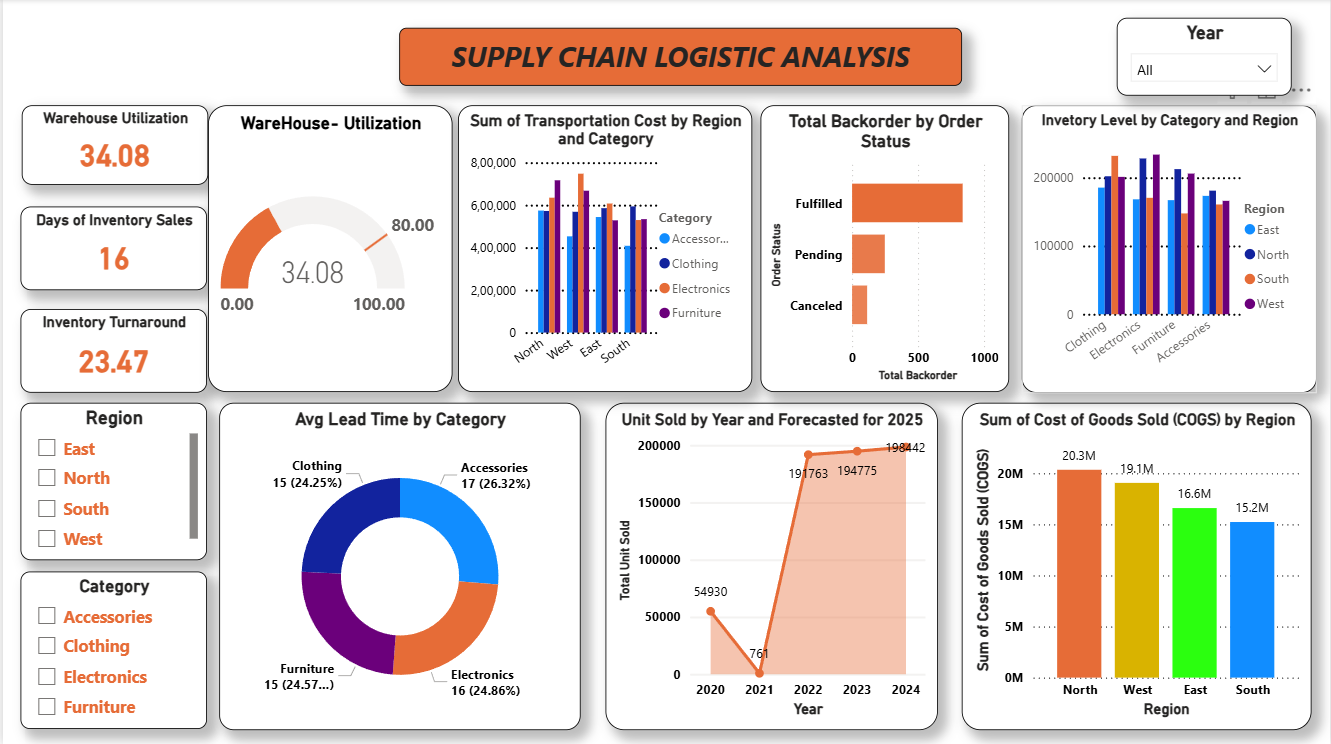

Layout of this report page (visuals, bound fields, positions):
{"tool":"powerbi","page":{"name":"Report","canvas":[1280,720],"ordinal":0},"visuals":[{"type":"card","title":"Warehouse Utilization","fields":{"Values":["All measure.WareHouse- Utiliz"]},"box":[17.8,102.9,179.8,76.8],"z":0},{"type":"card","title":"Days of Inventory Sales","fields":{"Values":["All measure.Days of Inventory Sales"]},"box":[16.5,200.3,179.8,81],"z":1000},{"type":"card","title":"Inventory Turnaround","fields":{"Values":["All measure.Inventory Turnover Ratio"]},"box":[16.5,299.1,179.8,81],"z":2000},{"type":"slicer","title":"Region","fields":{"Values":["SupplyChain_Dataset.Region"]},"box":[16.5,389.7,179.8,152.3],"z":3000},{"type":"slicer","title":"Category","fields":{"Values":["SupplyChain_Dataset.Category"]},"box":[16.5,553,179.8,152.3],"z":4000},{"type":"gauge","title":"WareHouse- Utilization","fields":{"Y":["All measure.WareHouse- Utiliz"]},"box":[197.6,102.9,236,277.2],"z":5000},{"type":"clusteredColumnChart","fields":{"Y":["Sum(SupplyChain_Dataset.Transportation Cost)"],"Category":["SupplyChain_Dataset.Region"],"Series":["SupplyChain_Dataset.Category"]},"box":[439.1,102.9,284,277.2],"z":6000},{"type":"lineChart","title":"Unit Sold by Year and Forecasted for 2025","fields":{"Category":["SupplyChain_Dataset.Date.Variation.Date Hierarchy.Year"],"Y":["All measure.Total Unit Sold"]},"box":[581.5,389.7,320.9,316.1],"z":7000},{"type":"donutChart","fields":{"Y":["All measure.Avg Lead Time"],"Category":["SupplyChain_Dataset.Category"]},"box":[208.6,389.7,348.5,315.6],"z":8000},{"type":"clusteredBarChart","fields":{"Y":["All measure.Total Backorder"],"Category":["SupplyChain_Dataset.Order Status"]},"box":[731.4,102.9,240.1,277.2],"z":9000},{"type":"clusteredColumnChart","fields":{"Y":["Sum(SupplyChain_Dataset.Cost of Goods Sold (COGS))"],"Category":["SupplyChain_Dataset.Region"]},"box":[925.3,389.7,337.8,316.1],"z":10000},{"type":"clusteredColumnChart","fields":{"Series":["SupplyChain_Dataset.Region"],"Category":["SupplyChain_Dataset.Category"],"Y":["All measure.Invetory Level"]},"box":[983.2,102.5,284.7,277.5],"z":11000},{"type":"textbox","box":[382.8,27.4,543.4,56.3],"z":12000},{"type":"slicer","title":"Year","fields":{"Values":["SupplyChain_Dataset.Date.Variation.Date Hierarchy.Year"]},"box":[1074.4,17.8,168.8,75.5],"z":13000}]}

Visuals, with their boxes in screenshot pixels (x1, y1, x2, y2), scaled from the page's 1280x720 canvas onto the 1331x744 screenshot:
"Warehouse Utilization" card: 19,106,205,186
"Days of Inventory Sales" card: 17,207,204,291
"Inventory Turnaround" card: 17,309,204,393
"Region" slicer: 17,403,204,560
"Category" slicer: 17,571,204,729
"WareHouse- Utilization" gauge: 205,106,451,393
clusteredColumnChart - Sum(SupplyChain_Dataset.Transportation Cost) x SupplyChain_Dataset.Region: 457,106,752,393
"Unit Sold by Year and Forecasted for 2025" lineChart: 605,403,938,729
donutChart - All measure.Avg Lead Time x SupplyChain_Dataset.Category: 217,403,579,729
clusteredBarChart - All measure.Total Backorder x SupplyChain_Dataset.Order Status: 761,106,1010,393
clusteredColumnChart - Sum(SupplyChain_Dataset.Cost of Goods Sold (COGS)) x SupplyChain_Dataset.Region: 962,403,1313,729
clusteredColumnChart - SupplyChain_Dataset.Region x SupplyChain_Dataset.Category: 1022,106,1318,393
textbox: 398,28,963,86
"Year" slicer: 1117,18,1293,96
